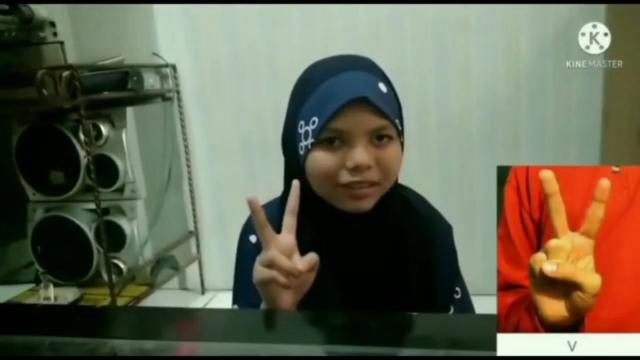V: (524, 170, 614, 324), (242, 178, 324, 306)
